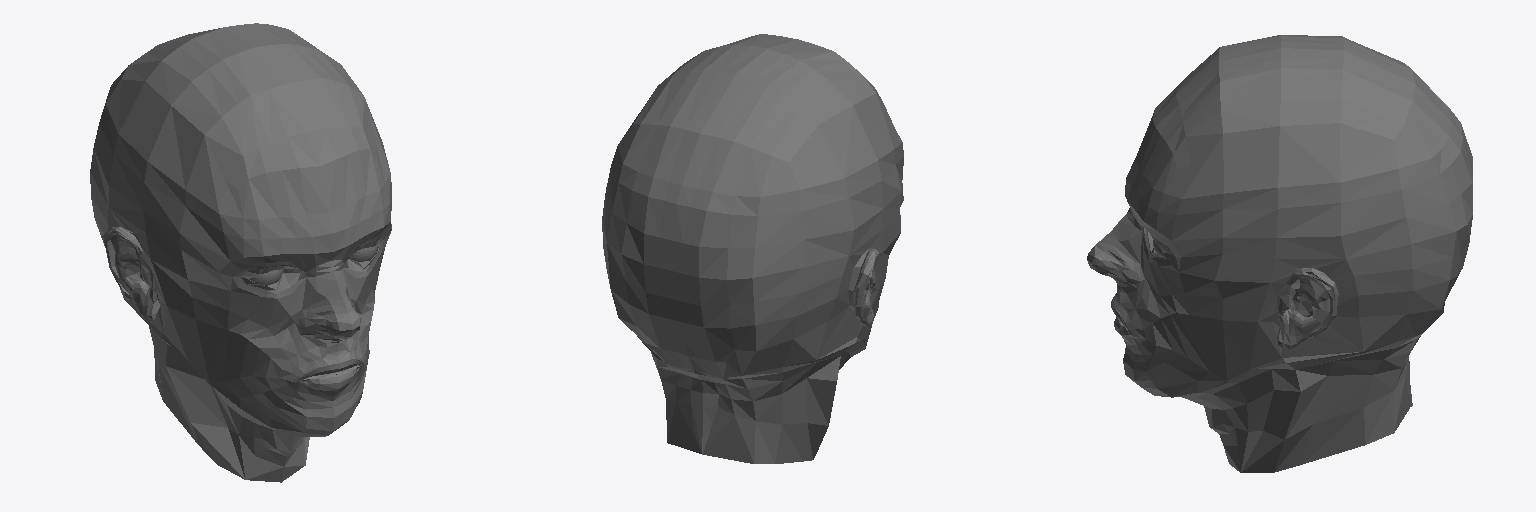
Rendered from head.obj.
3 renders of one model, left to right at view 1: azimuth 30°, elevation 25°; view 2: azimuth 150°, elevation 25°; view 3: azimuth 270°, elevation 25°, orthographic.
Parts seen in each view (by area): view 1: pasted__pCube4; view 2: pasted__pCube4; view 3: pasted__pCube4.
Boxes of the visible parts, x1=… form: pasted__pCube4: x1=90, y1=23, x2=391, y2=482; pasted__pCube4: x1=602, y1=34, x2=903, y2=463; pasted__pCube4: x1=1087, y1=35, x2=1472, y2=472.
Size of the model in its own units: 8.69 by 13.51 by 11.38.